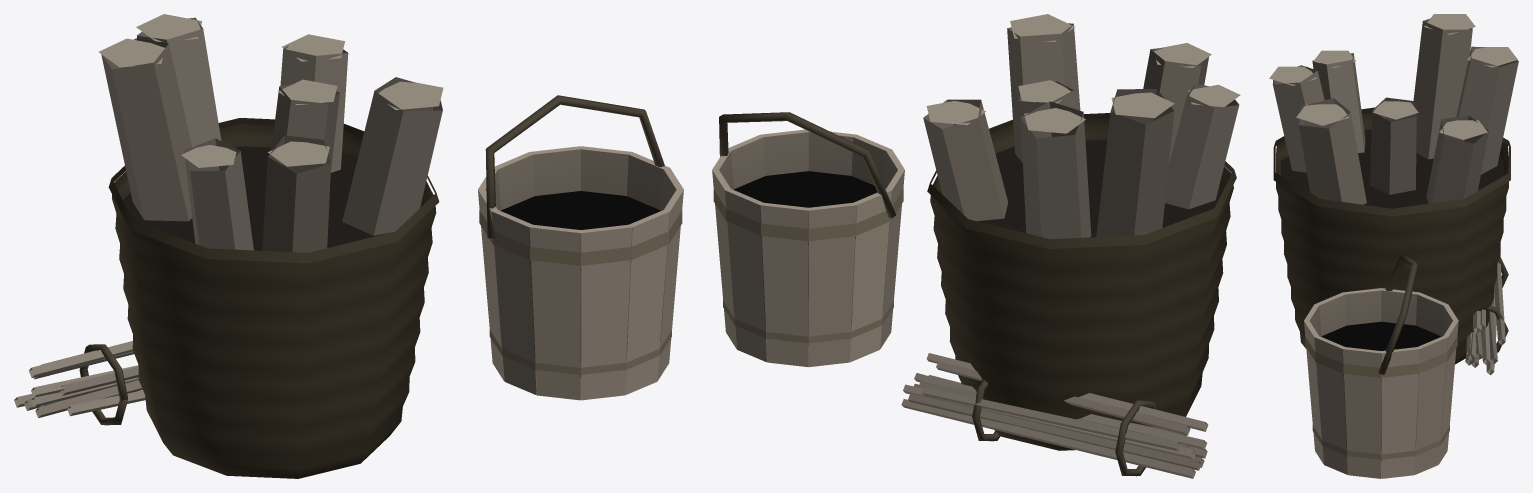
Rendered from prop_inn_hearth_basket.glb.
3 views of the same model, side by side, from view 1: azimuth 30°, elevation 25°; view 2: azimuth 150°, elevation 25°; view 3: azimuth 270°, elevation 25° (orthographic). The views are drawn at different scales.
Parts seen in each view (by area): view 1: InnHearthBasket, InnHearthBasketSoft; view 2: InnHearthBasket, InnHearthBasketSoft; view 3: InnHearthBasket, InnHearthBasketSoft.
Part boxes in pixels (x1,y1,x2,y2): InnHearthBasket: (14,14,683,418); InnHearthBasketSoft: (79,95,664,478); InnHearthBasket: (712,14,1240,478); InnHearthBasketSoft: (719,112,1236,476); InnHearthBasket: (1269,14,1518,478); InnHearthBasketSoft: (1273,107,1510,374).
Bounding box in the file's own units: 0.9116 × 0.5806 × 0.4521.
